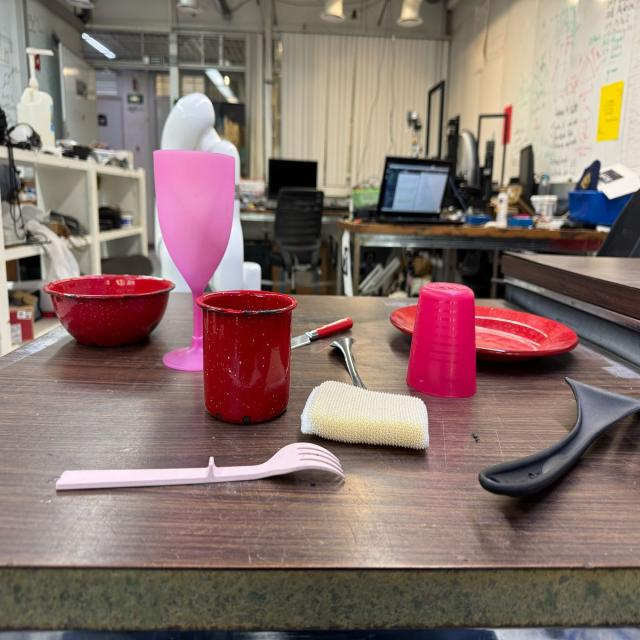fork: (54, 441, 348, 493)
glass: (196, 290, 298, 424), (406, 281, 478, 398)
knife: (291, 311, 353, 351)
plate: (388, 302, 578, 363)
spatula: (475, 371, 638, 496)
sponge: (298, 377, 431, 448)
spoon: (330, 335, 366, 388)
tazon: (41, 274, 178, 347)
wineglass: (152, 147, 238, 372)
